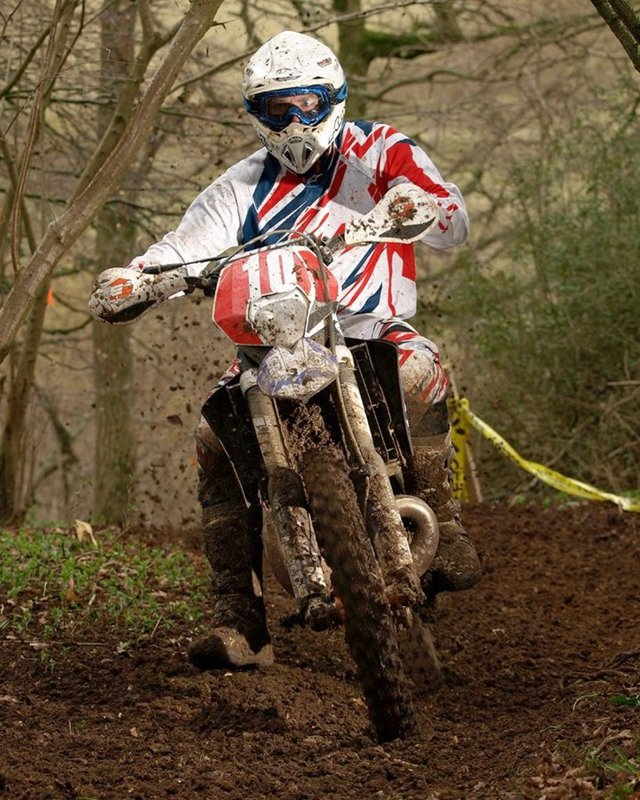helmet: (237, 38, 364, 169)
